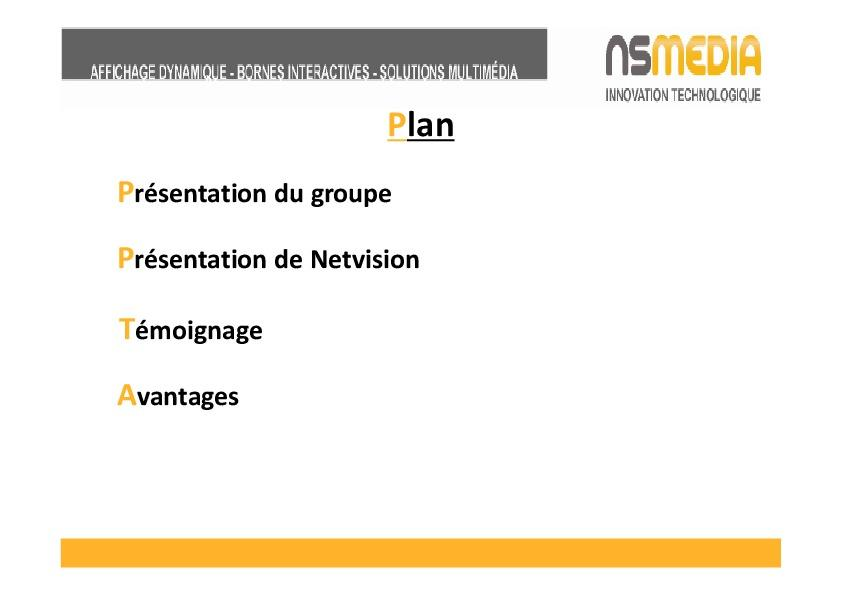paragraph: (110, 171, 464, 448)
subtitle: (371, 106, 479, 156)
title: (78, 27, 769, 102)
